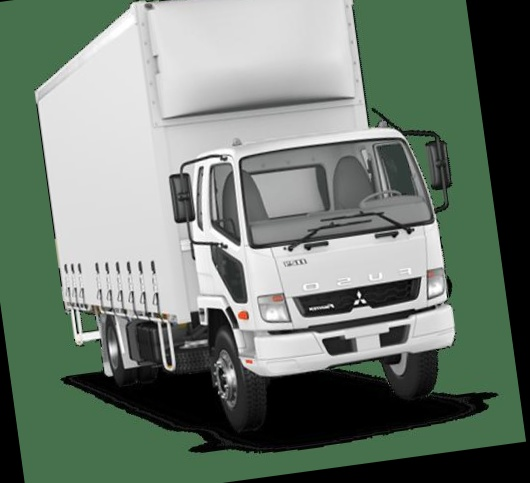truck: (22, 0, 465, 452)
